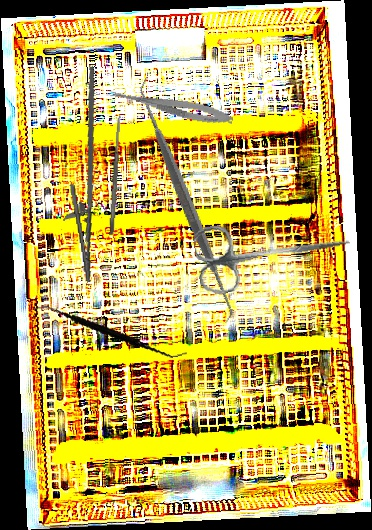Iris Scissors: (191, 205, 355, 297)
Micro Scissor: (104, 85, 235, 129)
Needle Holder: (46, 66, 118, 285)
Spatula Surgical: (60, 76, 312, 324), (32, 278, 188, 384), (108, 114, 123, 236)
